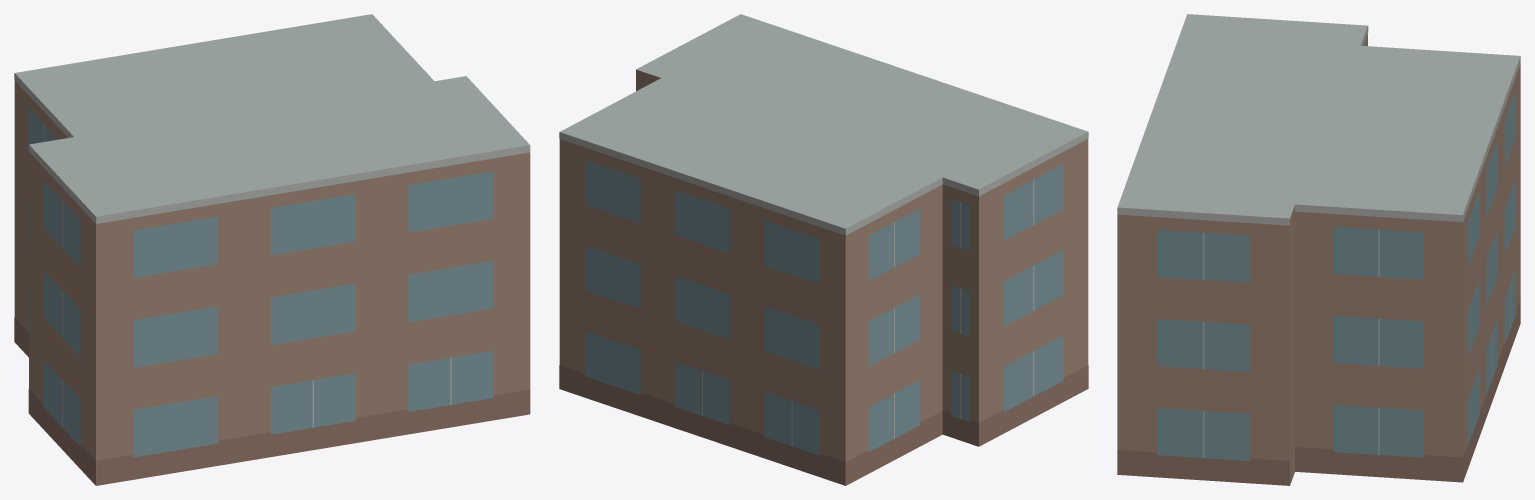
The model's file is survey-upis-32805668.glb.
3 renders of one model, left to right at view 1: azimuth 30°, elevation 25°; view 2: azimuth 150°, elevation 25°; view 3: azimuth 270°, elevation 25°, orthographic. The views are drawn at different scales.
Visible parts, largest first — view 1: survey-upis-32805668.tmp; view 2: survey-upis-32805668.tmp; view 3: survey-upis-32805668.tmp.
Part boxes in pixels (x1=…): survey-upis-32805668.tmp: x1=14, y1=14, x2=530, y2=485; survey-upis-32805668.tmp: x1=559, y1=14, x2=1088, y2=485; survey-upis-32805668.tmp: x1=1117, y1=14, x2=1520, y2=485.
Size of the model in its own units: 15.03 by 9.15 by 12.52.
